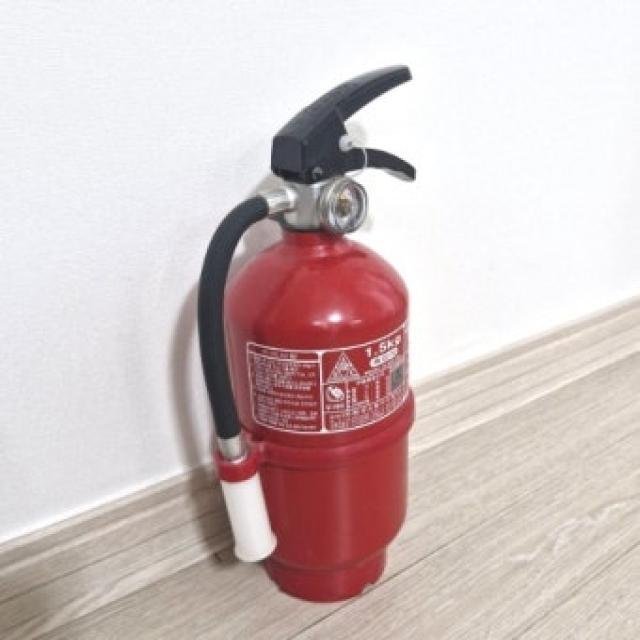pressure gauge: (319, 177, 367, 234)
